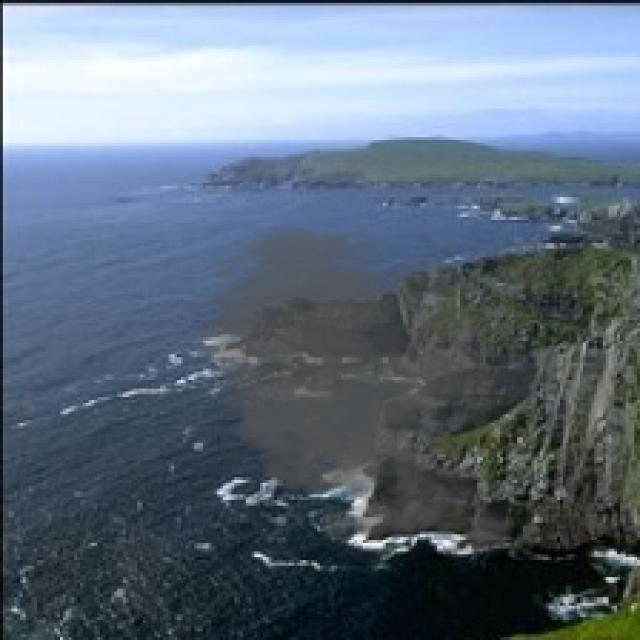Smoke: (174, 220, 557, 563)
